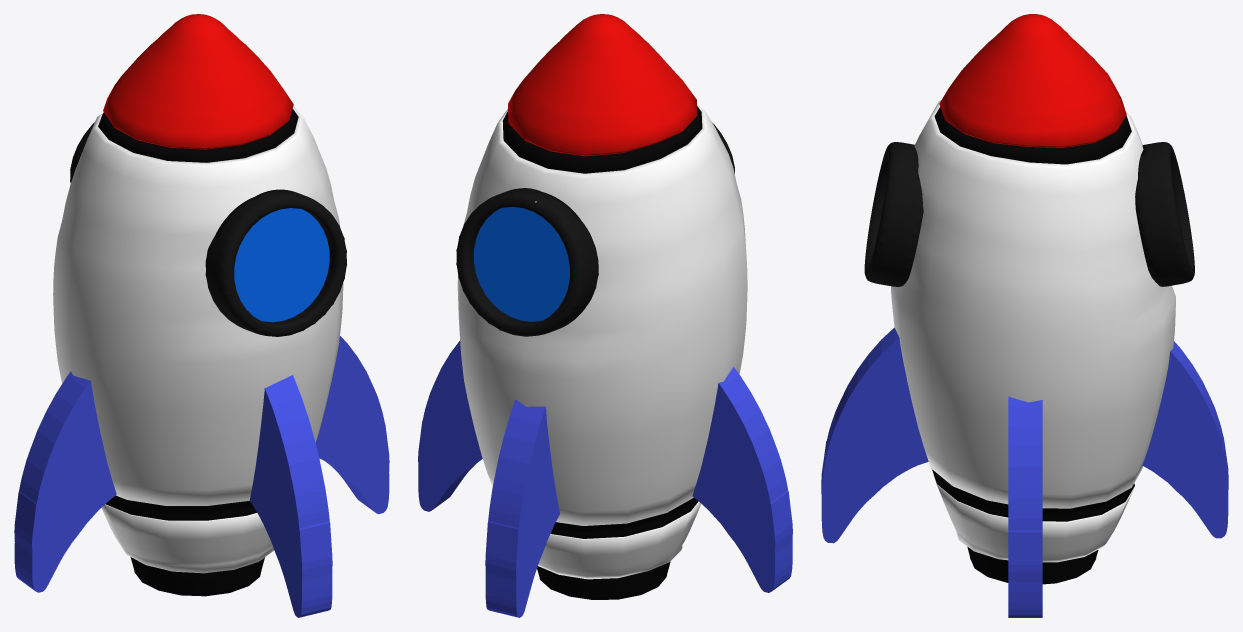
File: Rocket2.fbx
3 renders of one model, left to right at view 1: azimuth 30°, elevation 25°; view 2: azimuth 150°, elevation 25°; view 3: azimuth 270°, elevation 25°, orthographic. The views are drawn at different scales.
Visible parts, largest first — view 1: Rocket5; view 2: Rocket5; view 3: Rocket5.
Part boxes in pixels (x1,y1,x2,y2): Rocket5: (14, 14, 389, 617); Rocket5: (418, 14, 792, 617); Rocket5: (821, 14, 1228, 617).
Size of the model in its own units: 295 by 437 by 297.
